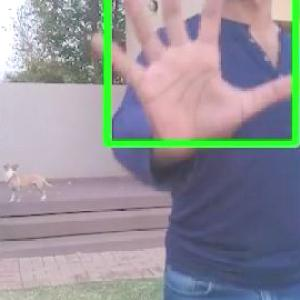follow_hand: (83, 0, 299, 147)
